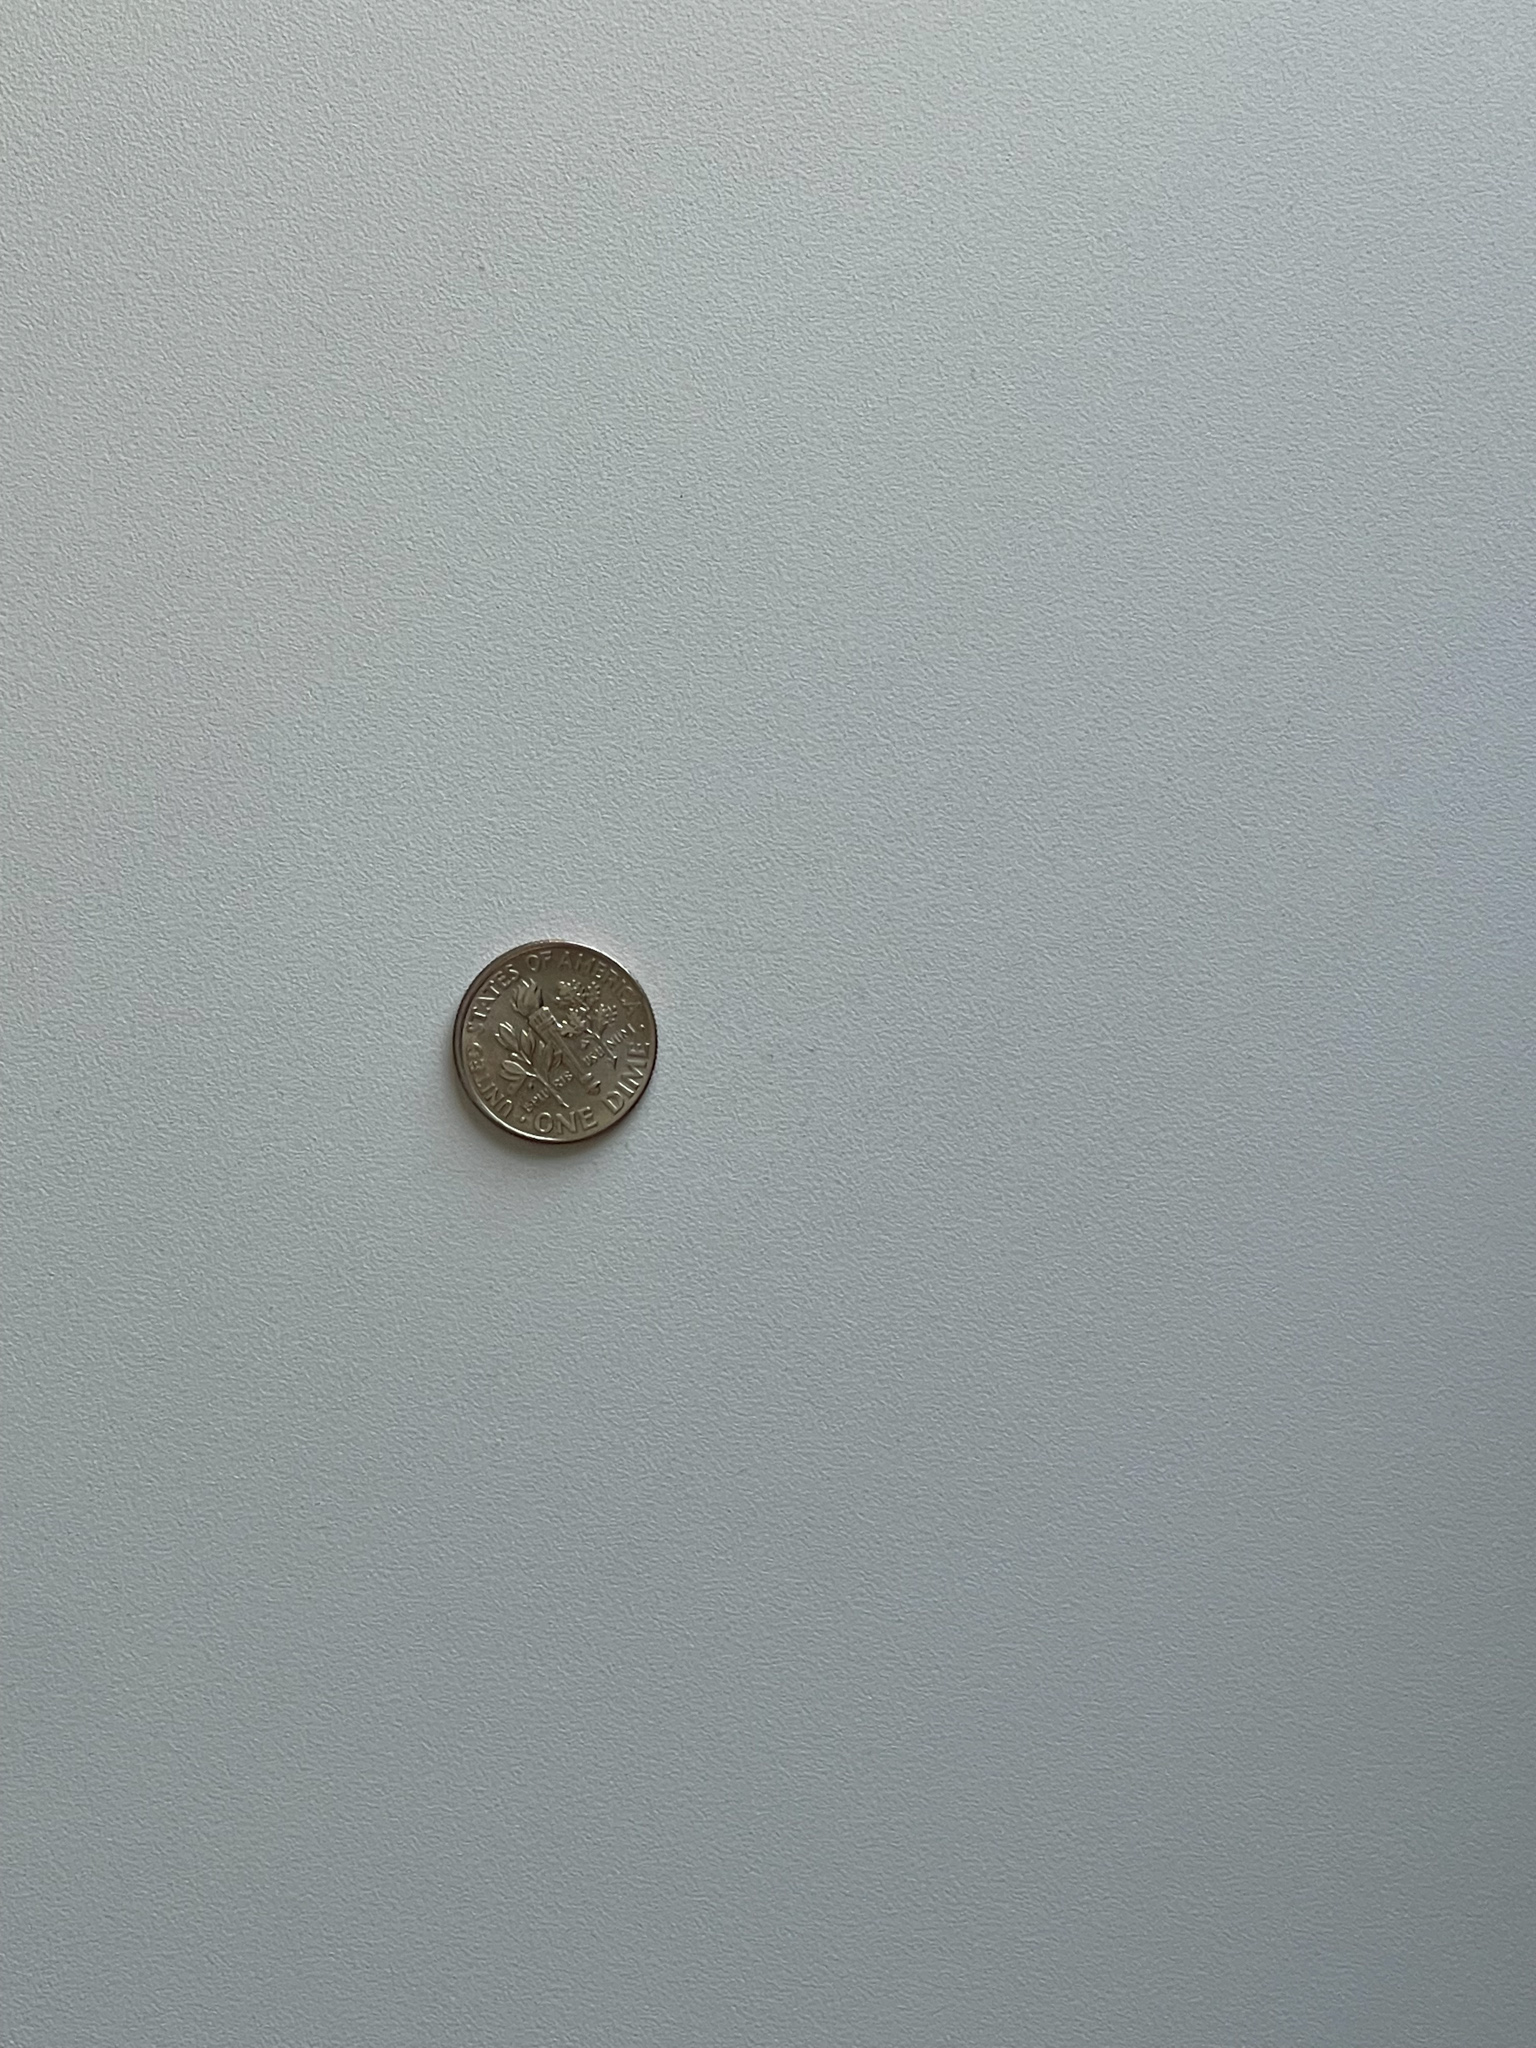dime: (447, 935, 662, 1155)
